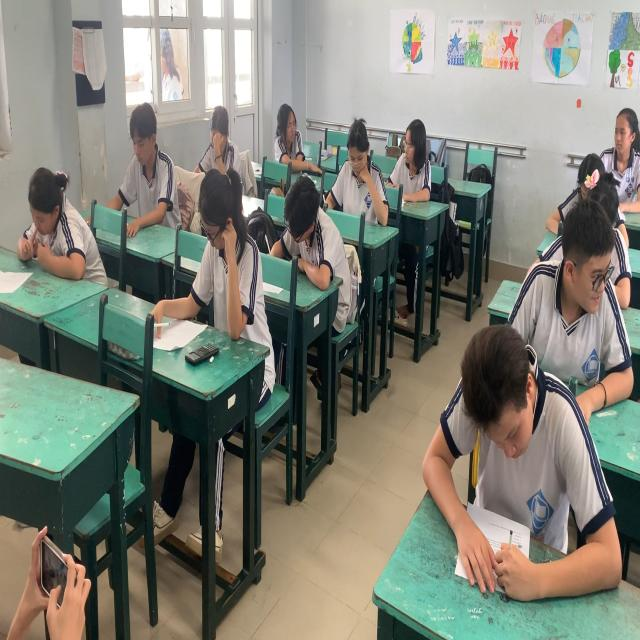cheating: (512, 212, 632, 374), (379, 106, 442, 215), (258, 84, 314, 184)
not_cheating: (414, 284, 620, 588), (179, 166, 263, 413), (1, 101, 86, 283), (266, 153, 351, 319), (552, 106, 638, 270), (105, 91, 187, 250), (563, 73, 640, 217), (328, 97, 394, 253), (194, 90, 243, 186)
